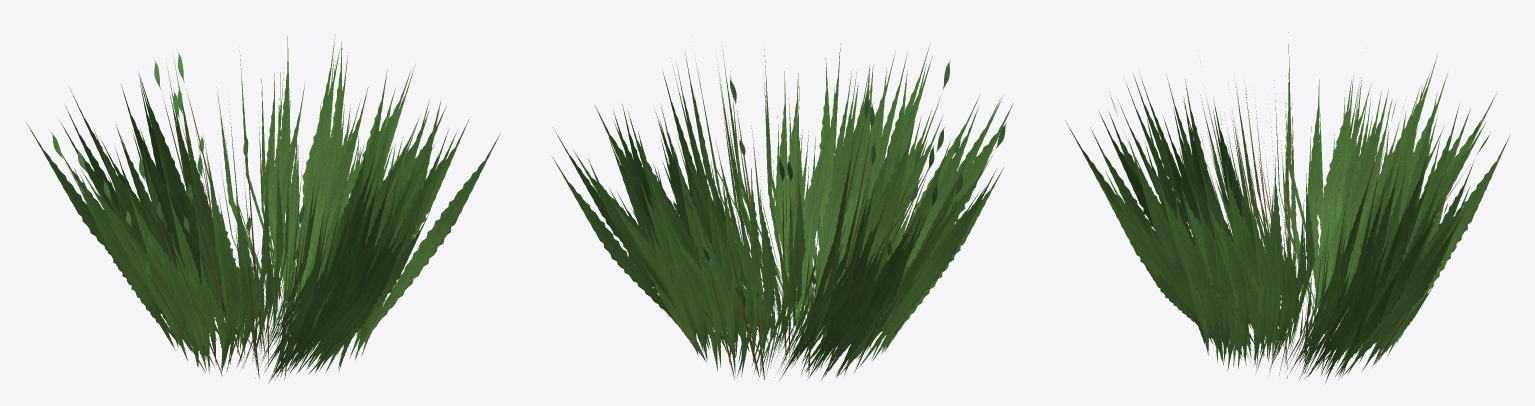
File: GRASS_01_Roadside_Tall.glb
The picture shows the model from 3 angles, left to right: view 1: azimuth 30°, elevation 25°; view 2: azimuth 150°, elevation 25°; view 3: azimuth 270°, elevation 25°; orthographic projection. The views are drawn at different scales.
Visible parts, largest first — view 1: GRASS_01_Roadside_Tall__FoliageCards, GRASS_01_Roadside_Tall__WoodyStems; view 2: GRASS_01_Roadside_Tall__FoliageCards, GRASS_01_Roadside_Tall__WoodyStems; view 3: GRASS_01_Roadside_Tall__FoliageCards, GRASS_01_Roadside_Tall__WoodyStems.
Boxes of the visible parts, x1,y1,x2,y2 form: GRASS_01_Roadside_Tall__FoliageCards: [26, 34, 500, 383]; GRASS_01_Roadside_Tall__WoodyStems: [65, 89, 401, 379]; GRASS_01_Roadside_Tall__FoliageCards: [552, 42, 1013, 380]; GRASS_01_Roadside_Tall__WoodyStems: [657, 97, 992, 380]; GRASS_01_Roadside_Tall__FoliageCards: [1065, 32, 1510, 382]; GRASS_01_Roadside_Tall__WoodyStems: [1126, 85, 1466, 378].
Size of the model in its own units: 1.23 by 0.7671 by 1.24.
Materials: 1 (1 with a texture image).
